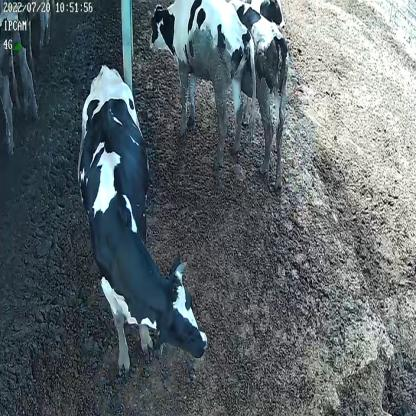cow: (76, 66, 212, 376), (147, 0, 253, 162), (234, 0, 292, 184)
